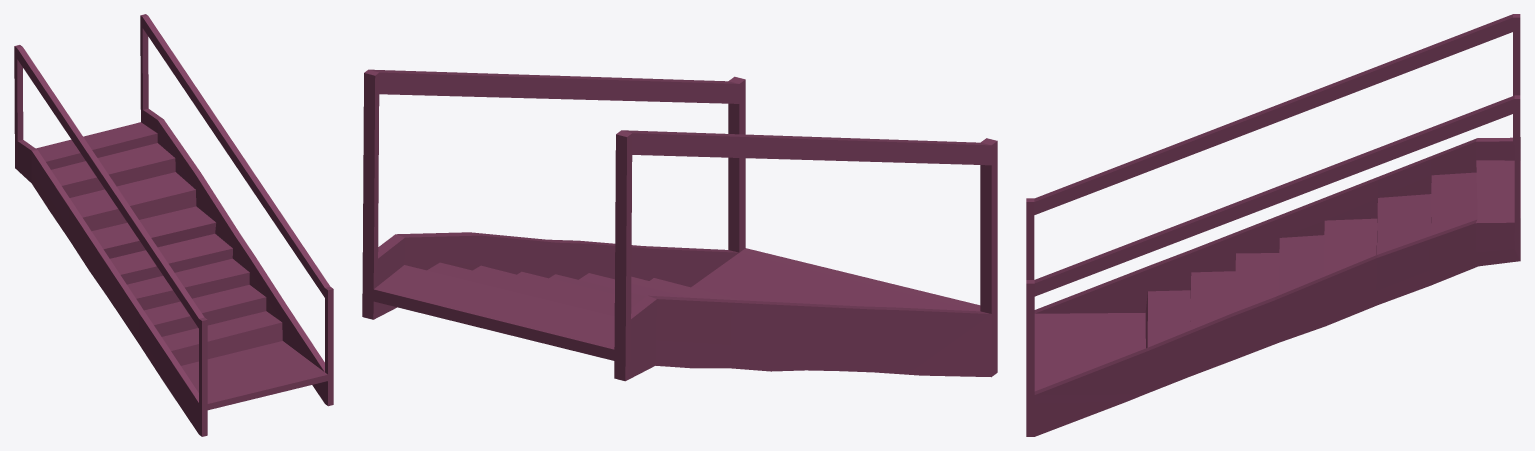
File: Staircase (1).fbx
3 renders of one model, left to right at view 1: azimuth 30°, elevation 25°; view 2: azimuth 150°, elevation 25°; view 3: azimuth 270°, elevation 25°, orthographic. The views are drawn at different scales.
Visible parts, largest first — view 1: pCube6; view 2: pCube6; view 3: pCube6.
Boxes of the visible parts, bbox=[...] form: pCube6: bbox=[14, 14, 333, 436]; pCube6: bbox=[362, 69, 997, 381]; pCube6: bbox=[1026, 14, 1520, 436].
Bounding box in the file's own units: 136 × 250 × 332.
Materials: 1 (1 with a texture image).
